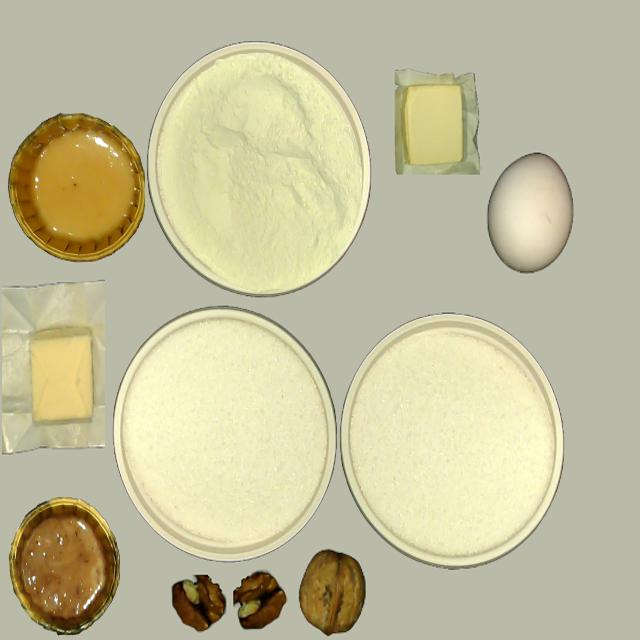Cocoa: (7, 111, 145, 261), (8, 496, 120, 635)
Egg: (487, 151, 573, 272)
Flour: (120, 316, 328, 548)
Milk: (153, 49, 365, 294), (347, 325, 555, 558)
Walnut: (298, 548, 365, 635), (232, 570, 286, 629), (171, 573, 225, 631)
